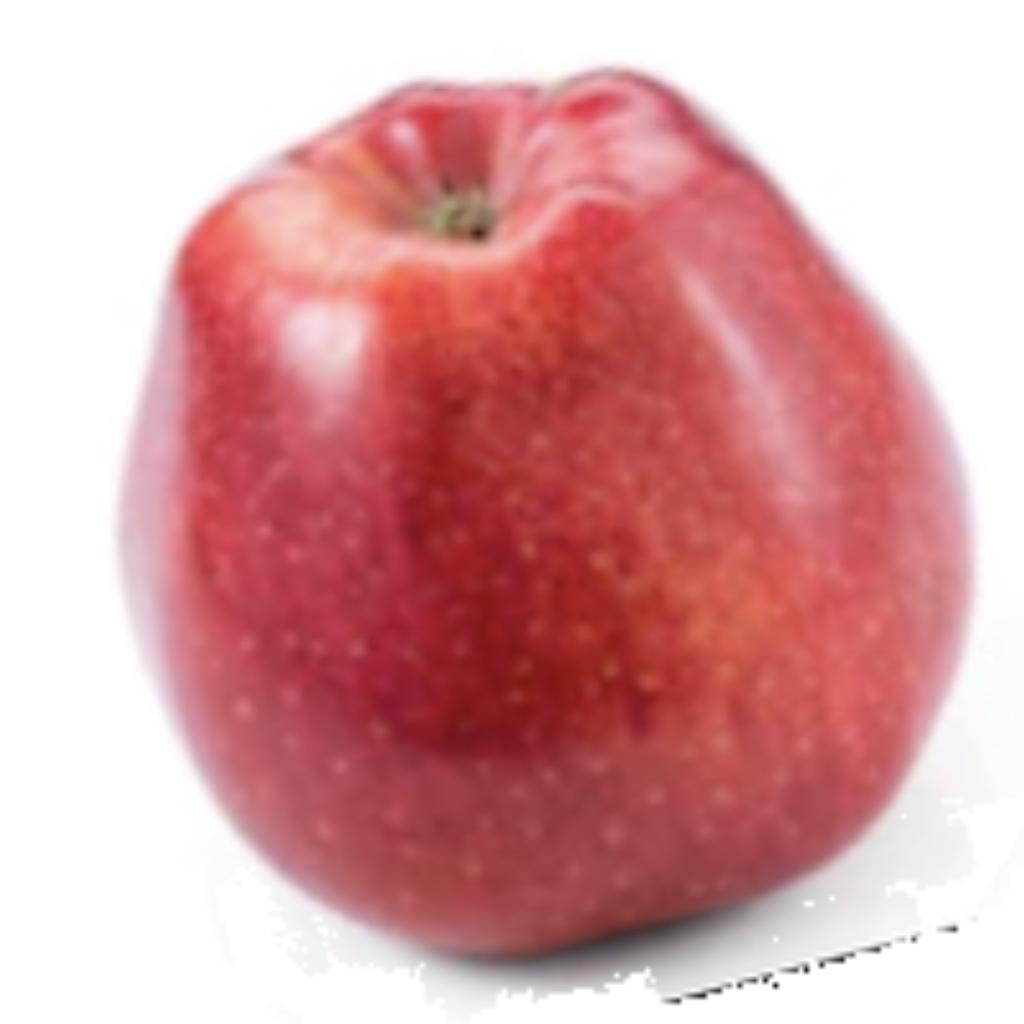apple: (102, 52, 983, 1019)
